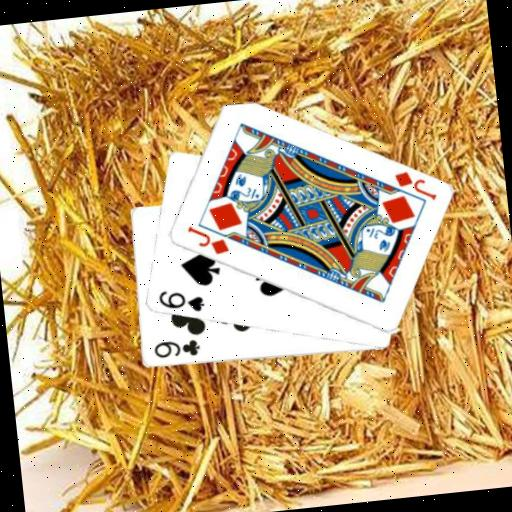6S: (155, 284, 208, 318)
9C: (151, 336, 203, 363)
JD: (390, 165, 439, 206), (183, 219, 231, 260)
